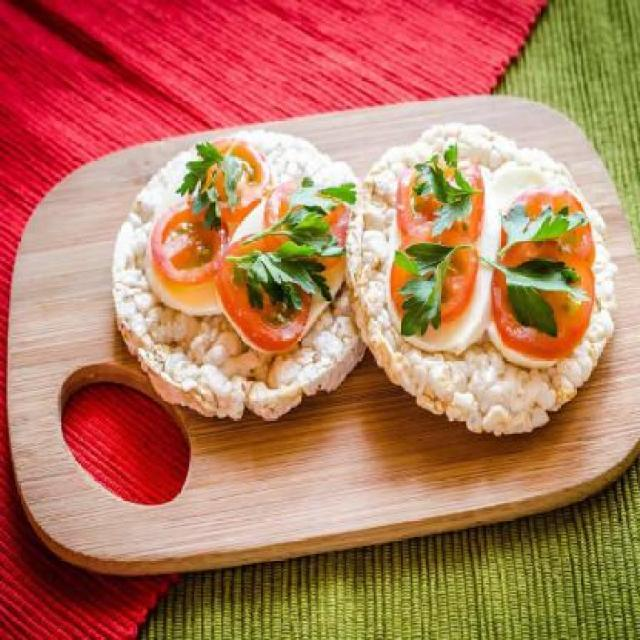Gallette di riso packaged: (114, 128, 382, 438), (354, 119, 617, 430)
